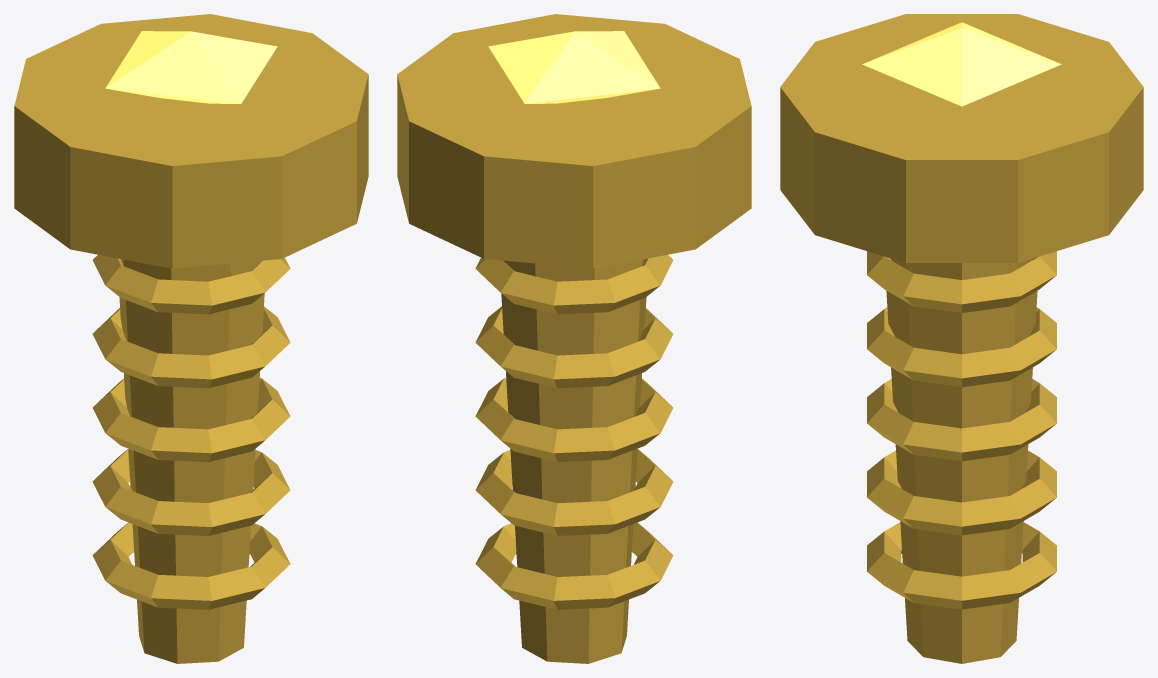
The model's file is super_magic_screw.glb.
3 views of the same model, side by side, from view 1: azimuth 30°, elevation 25°; view 2: azimuth 150°, elevation 25°; view 3: azimuth 270°, elevation 25° (orthographic).
Parts seen in each view (by area): view 1: head_screw_brass, thread_screw_brass, shaft_screw_brass, star_screw_star; view 2: head_screw_brass, thread_screw_brass, shaft_screw_brass, star_screw_star; view 3: head_screw_brass, thread_screw_brass, shaft_screw_brass, star_screw_star.
Boxes of the visible parts, box(x1,y1,x2,y2) form: head_screw_brass: box(14, 14, 368, 268); thread_screw_brass: box(92, 254, 290, 609); shaft_screw_brass: box(119, 259, 264, 663); star_screw_star: box(105, 31, 277, 103); head_screw_brass: box(397, 14, 751, 268); thread_screw_brass: box(475, 254, 673, 609); shaft_screw_brass: box(501, 259, 646, 663); star_screw_star: box(488, 31, 660, 103); head_screw_brass: box(780, 14, 1143, 262); thread_screw_brass: box(867, 251, 1056, 609); shaft_screw_brass: box(886, 258, 1037, 663); star_screw_star: box(862, 22, 1061, 106).
Size of the model in its own units: 0.0761 by 0.1488 by 0.08.
